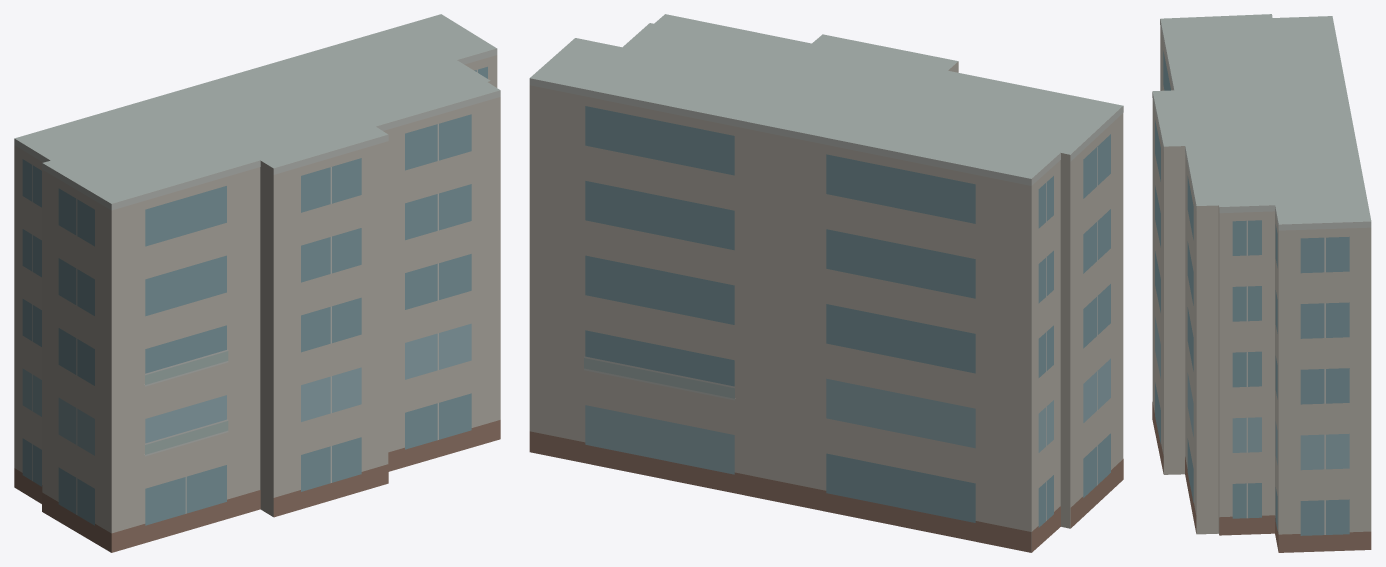
Rendered from survey-upis-32614248.glb.
3 views of the same model, side by side, from view 1: azimuth 30°, elevation 25°; view 2: azimuth 150°, elevation 25°; view 3: azimuth 270°, elevation 25° (orthographic). The views are drawn at different scales.
Visible parts, largest first — view 1: survey-upis-32614248.tmp; view 2: survey-upis-32614248.tmp; view 3: survey-upis-32614248.tmp.
Part boxes in pixels (x1,y1,x2,y2): survey-upis-32614248.tmp: (14, 14, 500, 552); survey-upis-32614248.tmp: (529, 14, 1123, 552); survey-upis-32614248.tmp: (1152, 14, 1371, 552).
Size of the model in its own units: 17.89 by 13 by 7.87.
